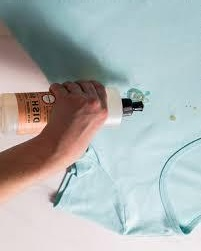oil: (129, 88, 151, 101), (185, 100, 198, 110), (165, 115, 177, 125)
